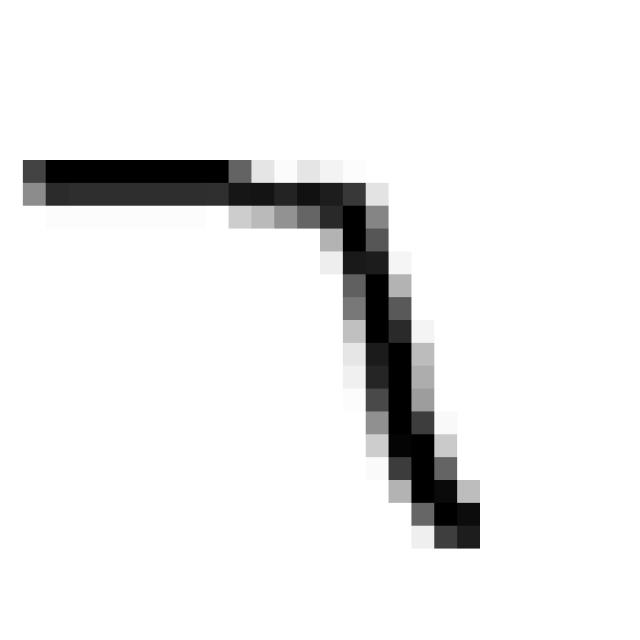6 -six-: (2, 140, 501, 572)
